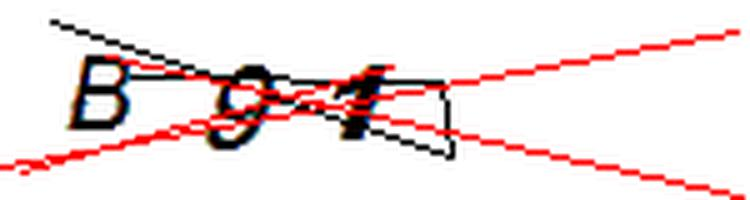1: (324, 52, 399, 154)
9: (198, 59, 292, 162)
B: (63, 49, 149, 138)
